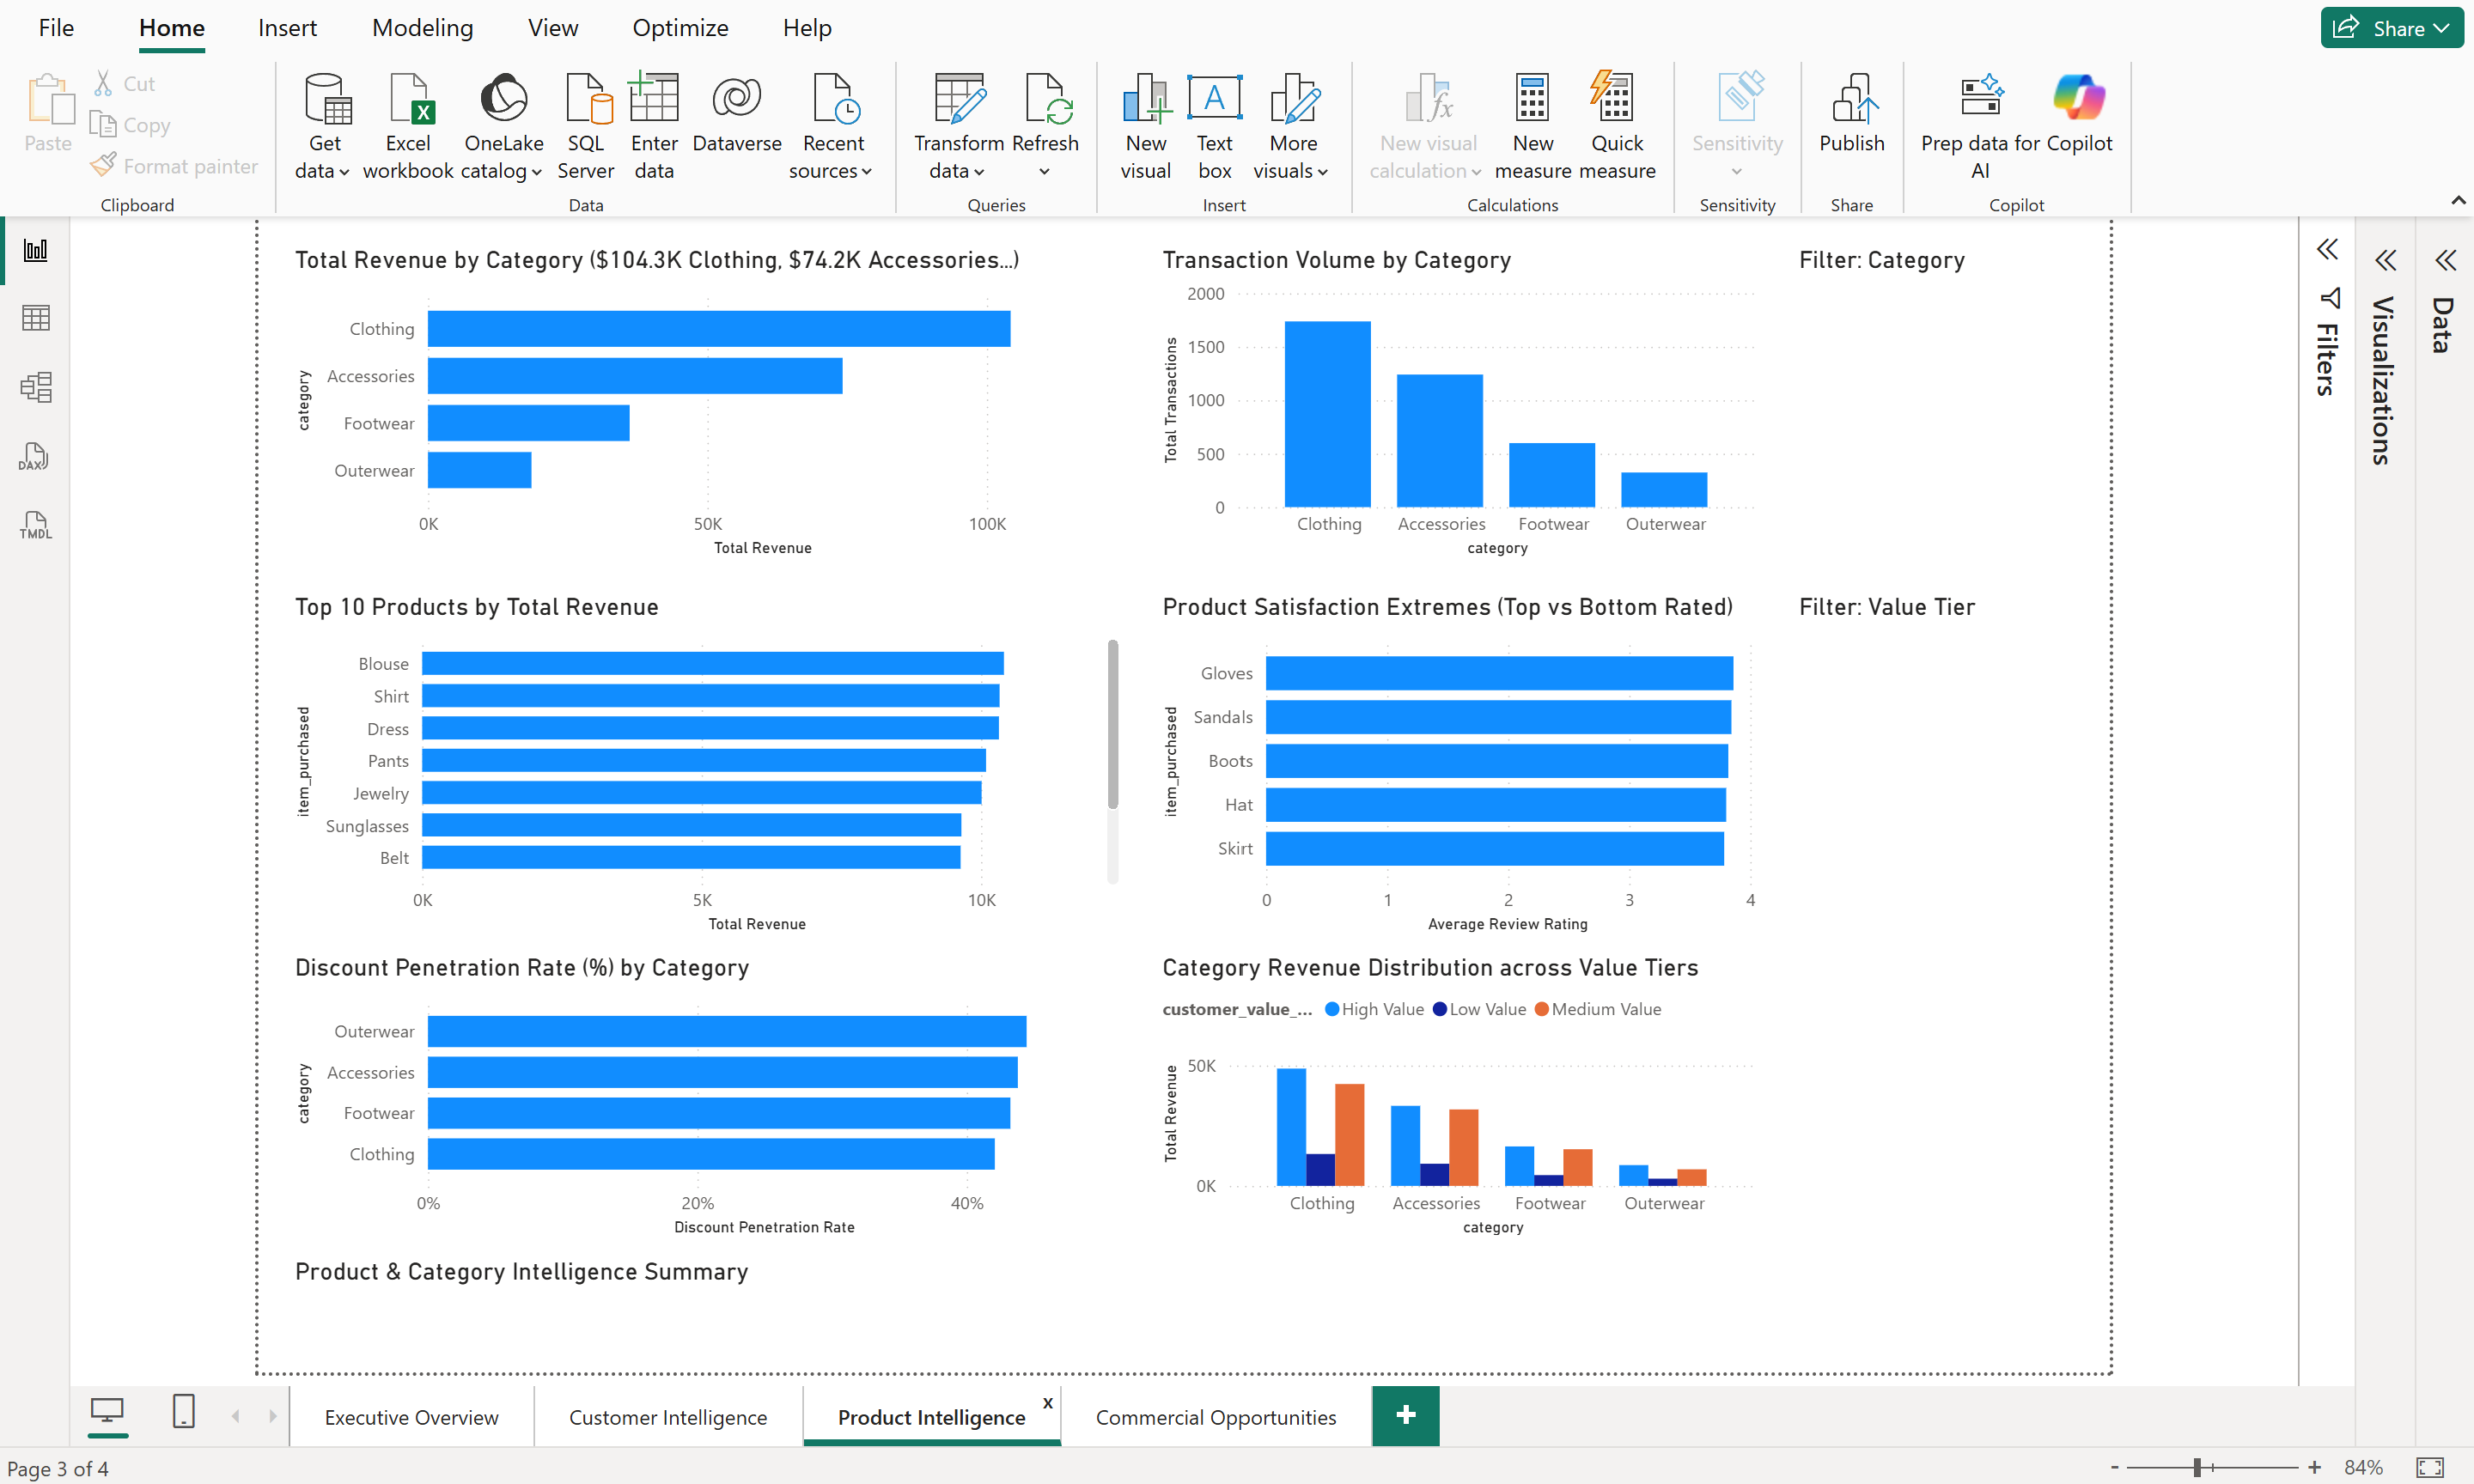

The dashboard page shown, as its layout file describes it:
{"tool":"powerbi","page":{"name":"Product Intelligence","canvas":[1280,800],"ordinal":2},"visuals":[{"type":"barChart","title":"Total Revenue by Category ($104.3K Clothing, $74.2K Accessories...)","box":[20,20,580,220],"z":1000},{"type":"columnChart","title":"Transaction Volume by Category","box":[620,20,420,220],"z":1000},{"type":"slicer","title":"Filter: Category","box":[1060,20,200,230],"z":1000},{"type":"barChart","title":"Top 10 Products by Total Revenue","box":[20,260,580,240],"z":1000},{"type":"columnChart","title":"Product Satisfaction Extremes (Top vs Bottom Rated)","box":[620,260,420,240],"z":1000},{"type":"slicer","title":"Filter: Value Tier","box":[1060,260,200,230],"z":1000},{"type":"barChart","title":"Discount Penetration Rate (%) by Category","box":[20,510,580,200],"z":1000},{"type":"columnChart","title":"Category Revenue Distribution across Value Tiers","box":[620,510,420,200],"z":1000},{"type":"textbox","title":"Product & Category Intelligence Summary","box":[20,720,1240,70],"z":1000}]}

Visuals, with their boxes on the page's 1280x800 design canvas (x1, y1, x2, y2). These are canvas units, not pixel positions in the 2474x1484 screenshot, which may show the page scaled, cropped or inside an application window:
"Total Revenue by Category ($104.3K Clothing, $74.2K Accessories...)" barChart: l=20, t=20, r=600, b=240
"Transaction Volume by Category" columnChart: l=620, t=20, r=1040, b=240
"Filter: Category" slicer: l=1060, t=20, r=1260, b=250
"Top 10 Products by Total Revenue" barChart: l=20, t=260, r=600, b=500
"Product Satisfaction Extremes (Top vs Bottom Rated)" columnChart: l=620, t=260, r=1040, b=500
"Filter: Value Tier" slicer: l=1060, t=260, r=1260, b=490
"Discount Penetration Rate (%) by Category" barChart: l=20, t=510, r=600, b=710
"Category Revenue Distribution across Value Tiers" columnChart: l=620, t=510, r=1040, b=710
"Product & Category Intelligence Summary" textbox: l=20, t=720, r=1260, b=790
